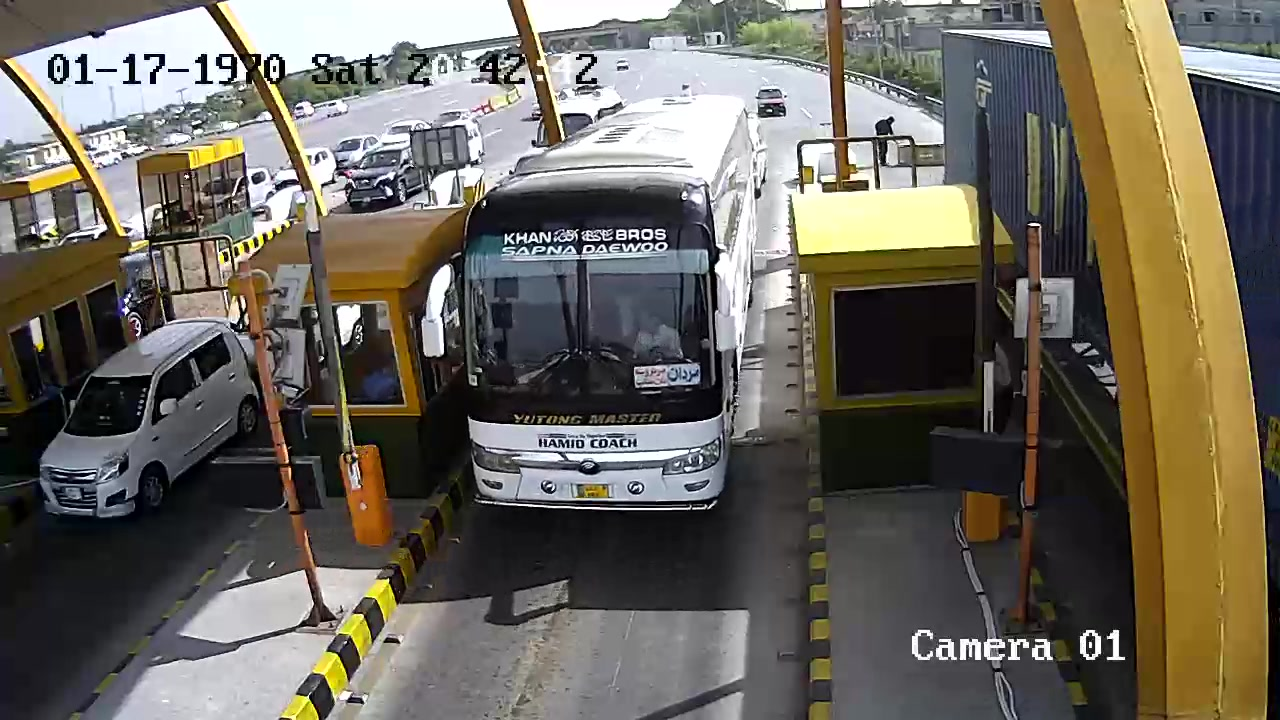F4: (447, 92, 760, 518)
